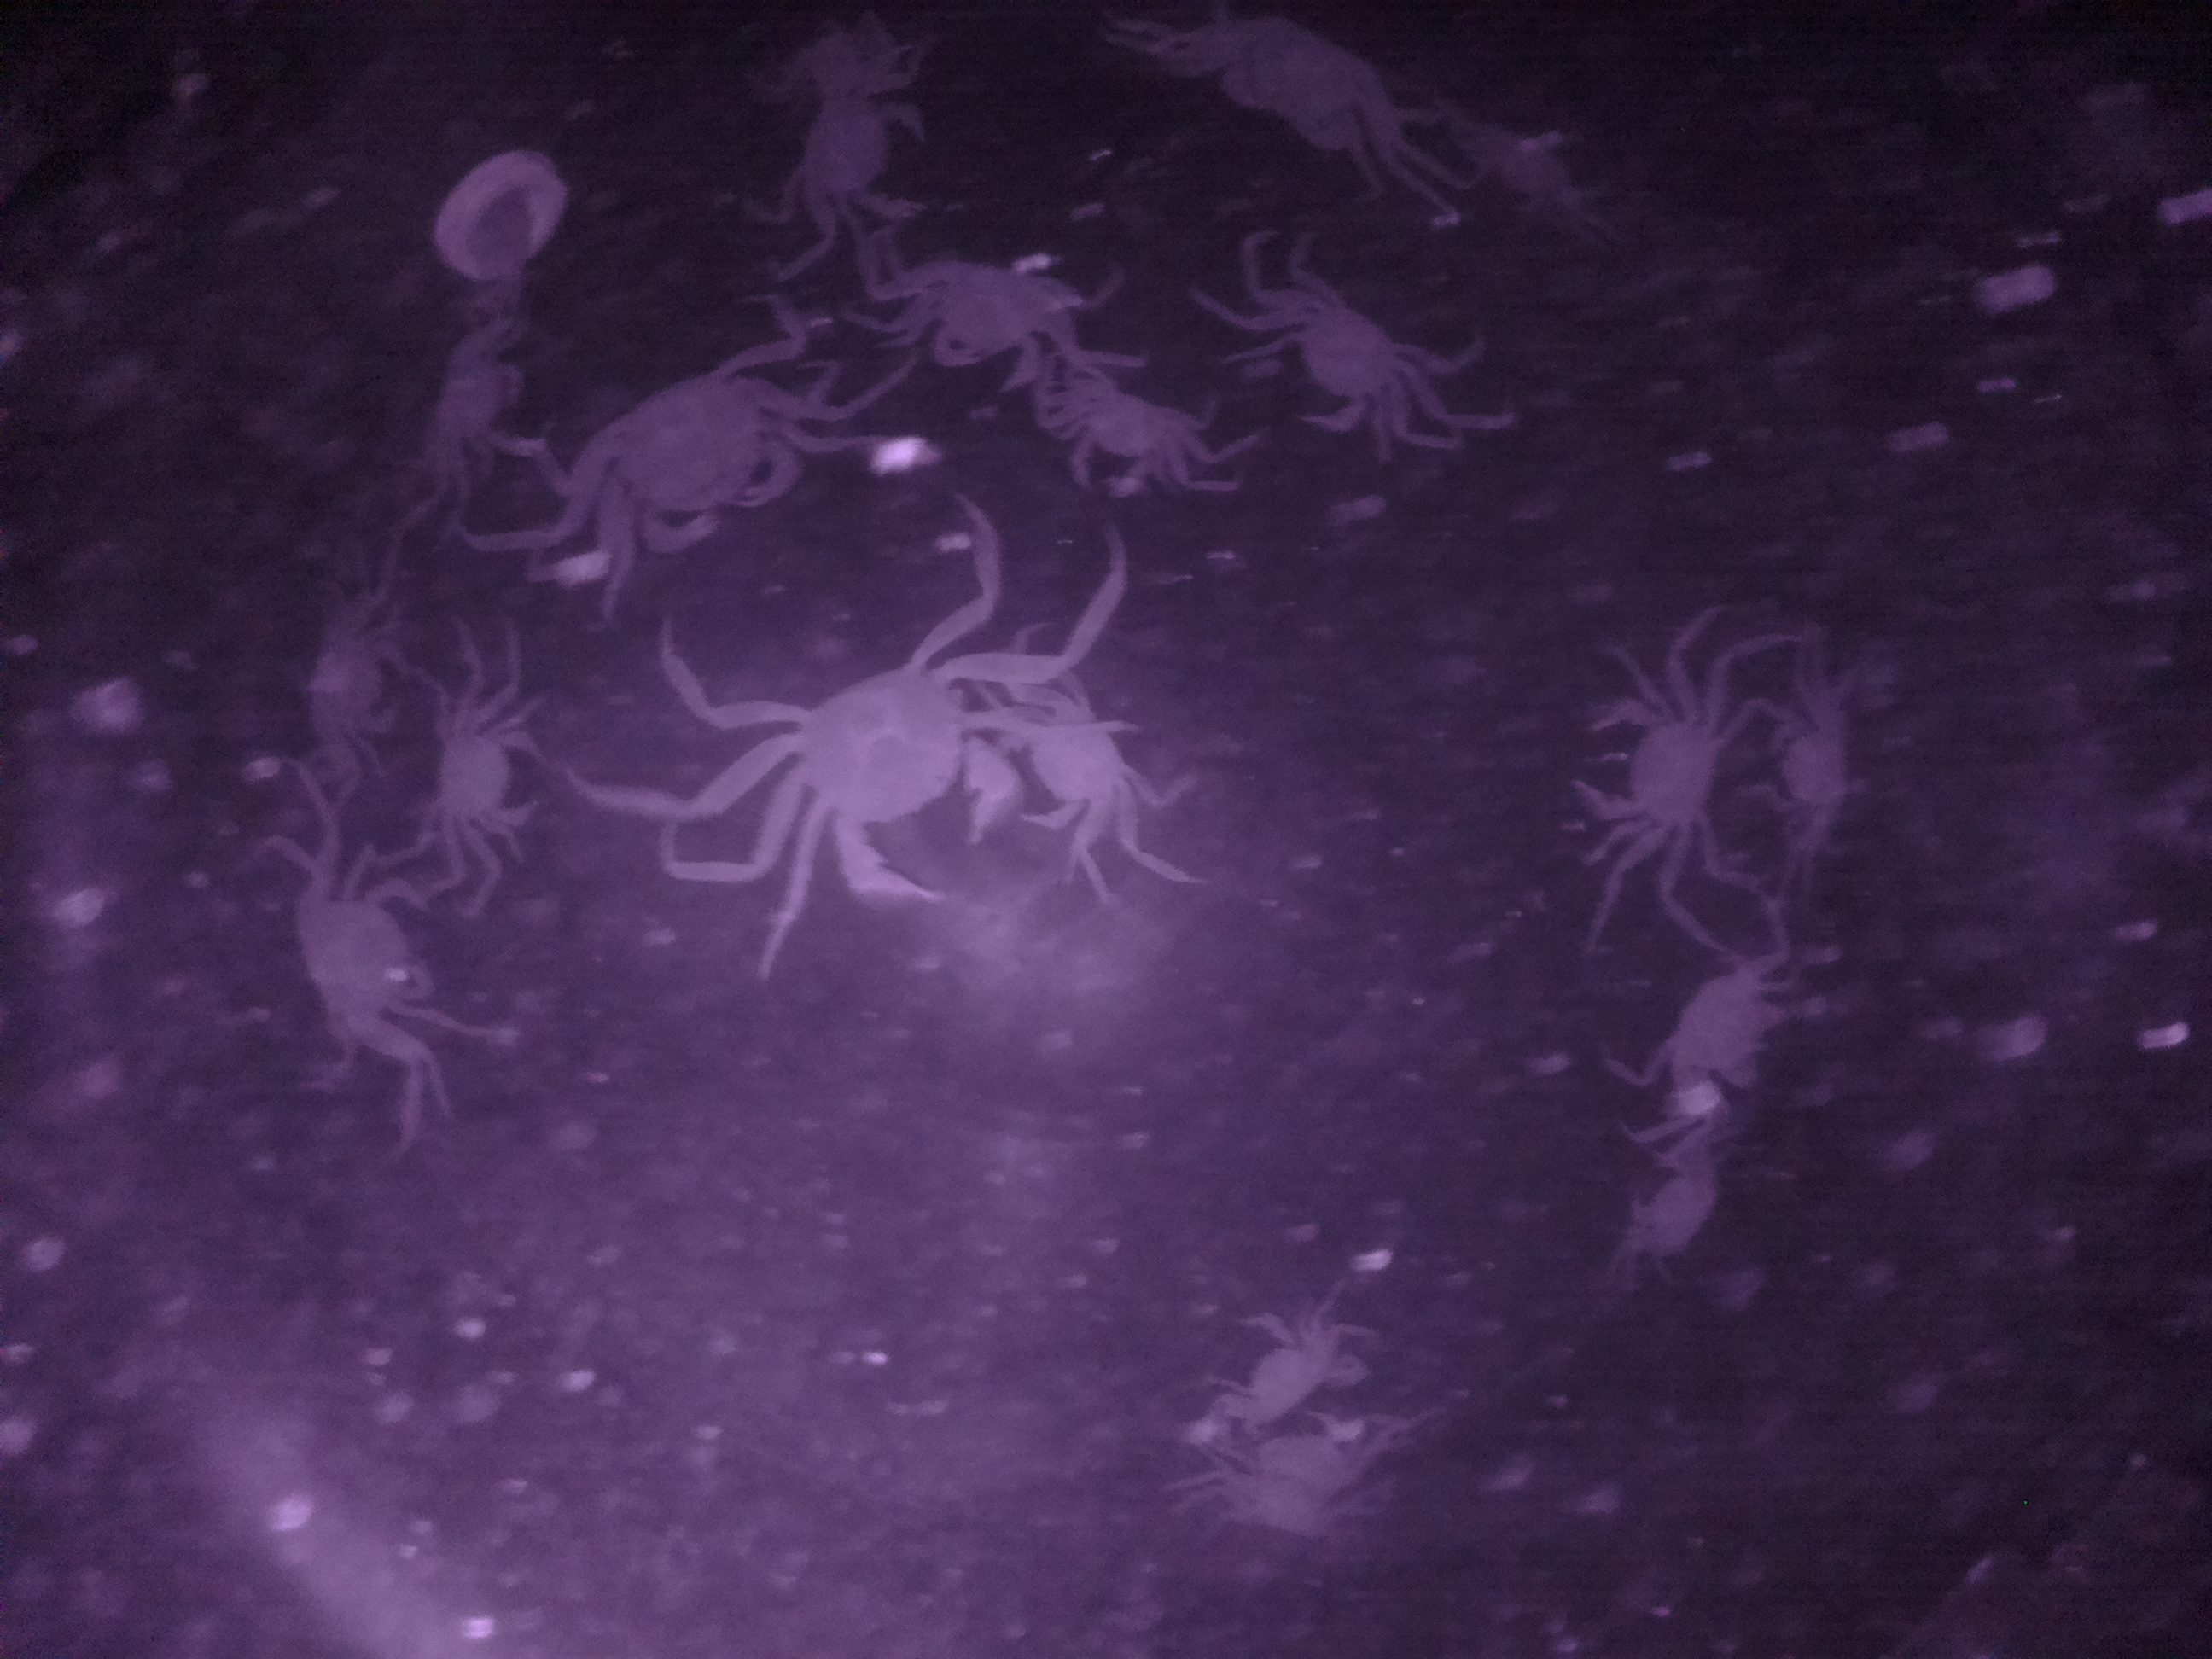Crab: (765, 605, 1022, 929), (577, 331, 819, 586), (1233, 261, 1442, 451), (1188, 19, 1420, 181), (279, 857, 448, 1066), (1562, 678, 1745, 870), (763, 73, 954, 240), (895, 253, 1089, 383), (1038, 371, 1216, 497), (418, 704, 556, 859), (1219, 1291, 1338, 1434)
